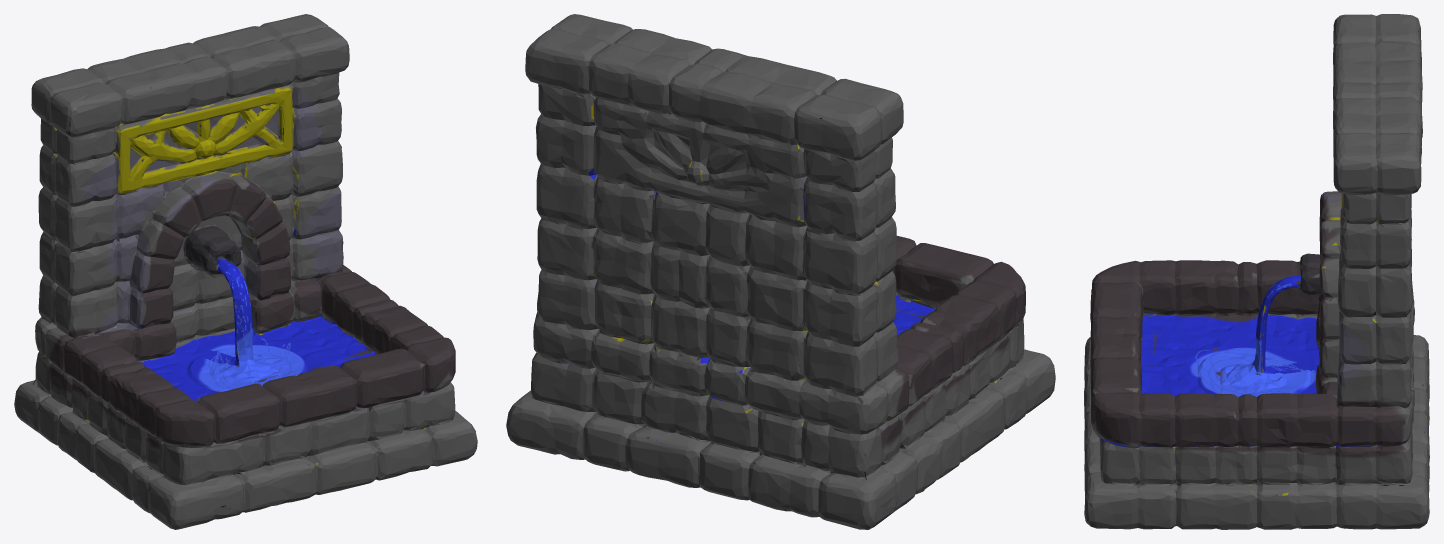
The model's file is fonte_de_parede.glb.
3 views of the same model, side by side, from view 1: azimuth 30°, elevation 25°; view 2: azimuth 150°, elevation 25°; view 3: azimuth 270°, elevation 25° (orthographic). The views are drawn at different scales.
Parts seen in each view (by area): view 1: tmpu0kltk_n.ply; view 2: tmpu0kltk_n.ply; view 3: tmpu0kltk_n.ply.
Boxes of the visible parts, x1,y1,x2,y2 form: tmpu0kltk_n.ply: (14, 14, 477, 529); tmpu0kltk_n.ply: (506, 14, 1055, 529); tmpu0kltk_n.ply: (1084, 14, 1429, 529).
Size of the model in its own units: 1.86 by 1.96 by 1.67.
1 material, 1 textured.
